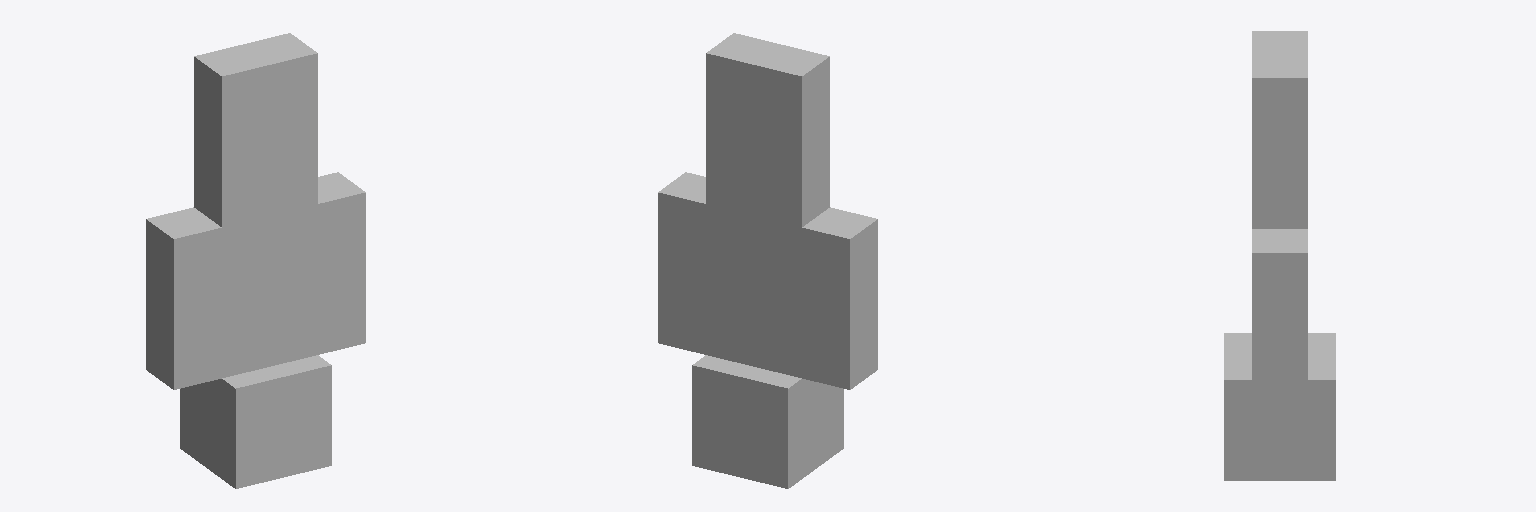
The model's file is steve_template.obj.
3 renders of one model, left to right at view 1: azimuth 30°, elevation 25°; view 2: azimuth 150°, elevation 25°; view 3: azimuth 270°, elevation 25°, orthographic.
Parts seen in each view (by area): view 1: head, body, right_arm, right_leg, left_leg, left_arm; view 2: head, body, right_arm, right_leg, left_leg, left_arm; view 3: head, left_arm, left_leg, right_leg.
Part boxes in pixels (x1,y1,x2,y2): head: (180,355,331,488); body: (222,204,317,377); right_arm: (146,207,221,389); right_leg: (194,45,269,226); left_leg: (243,33,317,215); left_arm: (318,172,365,354); head: (692,355,843,488); body: (706,204,801,377); right_arm: (802,207,877,389); right_leg: (754,45,829,226); left_leg: (706,33,780,215); left_arm: (658,172,705,354); head: (1224,333,1335,480); left_arm: (1252,229,1307,403); left_leg: (1252,55,1307,228); right_leg: (1252,31,1307,54).
Bounding box in the file's own units: 15.93 × 31.85 × 7.96.